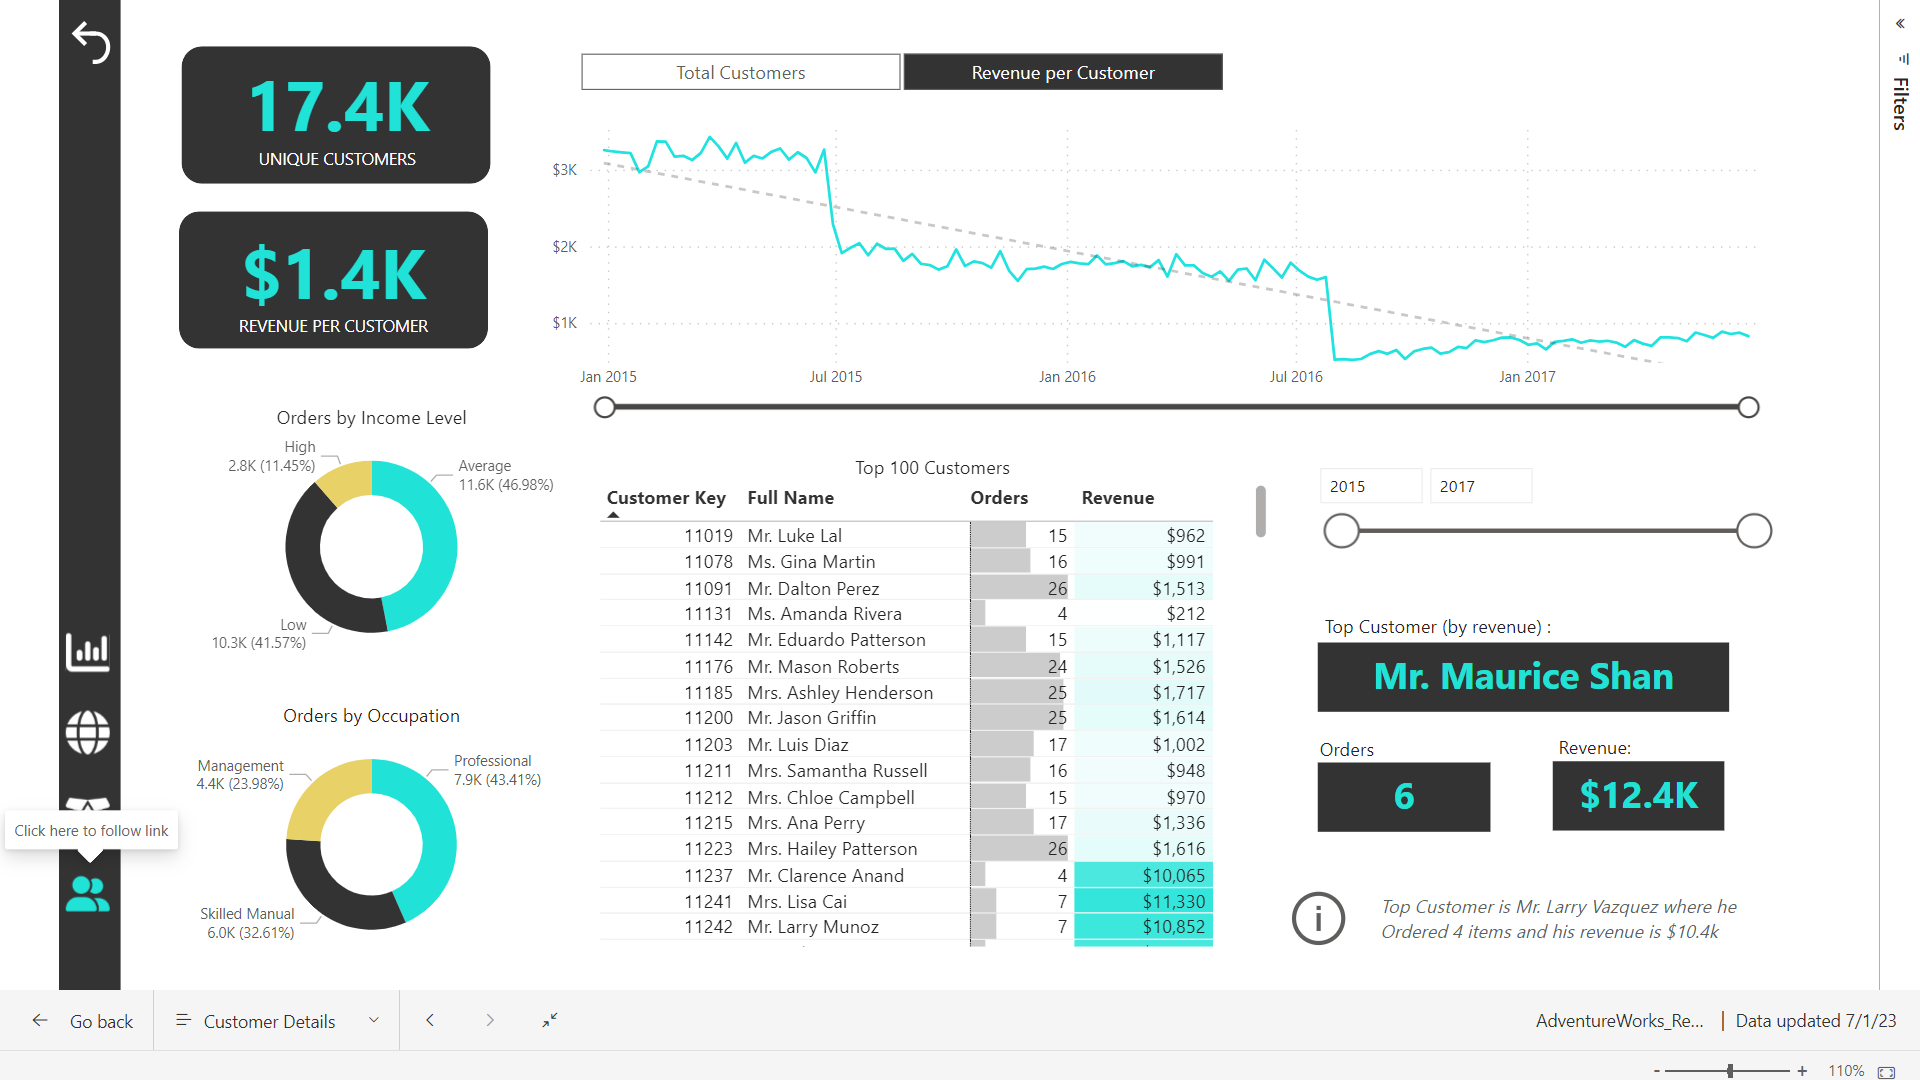

Layout of this report page (visuals, bound fields, positions):
{"tool":"powerbi","page":{"name":"Customer Details","canvas":[1280,720],"ordinal":3},"visuals":[{"type":"shape","box":[0,0,44.6,720],"z":0},{"type":"actionButton","box":[1.1,454.3,44.3,40],"z":0,"group":"g1"},{"type":"shape","box":[88.9,34,225,100],"z":1000},{"type":"actionButton","box":[1.1,512.9,44.3,40],"z":1000,"group":"g1"},{"type":"shape","box":[87.5,153.6,225,100],"z":2000},{"type":"actionButton","box":[1.1,630,44.3,40],"z":2000,"group":"g1"},{"type":"card","fields":{"Values":["AW_Customer_Lookup.Total Customers"]},"box":[95.1,21.4,213.9,122.2],"z":3000},{"type":"actionButton","box":[1.1,571.4,44.3,40],"z":3000,"group":"g1"},{"type":"card","fields":{"Values":["AW_Sales.Avg Revenue per Customer"]},"box":[92.5,142.6,213.9,122.2],"z":4000},{"type":"lineChart","title":"Trending Customers","fields":{"Y":["AW_Sales.Avg Revenue per Customer"],"Category":["AW_Calender_Lookup.Year","AW_Calender_Lookup.Start of Month","AW_Calender_Lookup.Start of Week","AW_Calender_Lookup.Date"]},"box":[353.3,81.9,900.9,224.9],"z":5000},{"type":"donutChart","title":"Orders by Income Level","fields":{"Category":["AW_Customer_Lookup.IncomeLevel"],"Y":["AW_Sales.Total Orders"]},"box":[67.6,293.2,320.3,190.5],"z":6000},{"type":"donutChart","title":"Orders by Occupation","fields":{"Y":["AW_Sales.Total Orders"],"Category":["AW_Customer_Lookup.Occupation"]},"box":[67.6,510.8,320.3,189.2],"z":7000},{"type":"tableEx","title":"Top 100 Customers","fields":{"Values":["AW_Customer_Lookup.CustomerKey","AW_Customer_Lookup.FullName","AW_Sales.Total Orders","AW_Sales.Total Revenue"]},"box":[387.5,330.1,496.3,363.1],"z":8000},{"type":"card","fields":{"Values":["Min(AW_Customer_Lookup.FullName)"]},"box":[915.6,467,299.5,50.1],"z":9000},{"type":"card","fields":{"Values":["AW_Sales.Total Revenue"]},"box":[1086.7,553.8,124.7,50.1],"z":10000},{"type":"card","fields":{"Values":["AW_Sales.Total Orders"]},"box":[915.6,555,125.9,50.1],"z":11000},{"type":"textbox","box":[915.6,441.3,189.5,28.1],"z":12000},{"type":"textbox","box":[911.9,530.5,75.8,28.1],"z":13000},{"type":"textbox","box":[1085.5,529.3,116.1,29.3],"z":14000},{"type":"slicer","fields":{"Values":["AW_Calender_Lookup.Year"]},"box":[904.6,330.1,349.6,95.3],"z":15000},{"type":"actionButton","box":[2.9,10,45.7,41.4],"z":16000},{"type":"actionButton","box":[891.1,643,349.6,50.1],"z":17000},{"type":"group","id":"g1","title":"Nevigation Buttons","box":[1.1,454.3,44.3,215.7],"z":18000},{"type":"slicer","fields":{"Values":["Customer Metric Selection.Customer Metric Selection"]},"box":[353.3,31.8,517.1,37.9],"z":19000}]}

Visuals, with their boxes on the page's 1280x720 design canvas (x1, y1, x2, y2). These are canvas units, not pixel positions in the 1920x1080 screenshot, which may show the page scaled, cropped or inside an application window:
shape: x1=0, y1=0, x2=45, y2=720
actionButton: x1=1, y1=454, x2=45, y2=494
shape: x1=89, y1=34, x2=314, y2=134
actionButton: x1=1, y1=513, x2=45, y2=553
shape: x1=88, y1=154, x2=312, y2=254
actionButton: x1=1, y1=630, x2=45, y2=670
card - AW_Customer_Lookup.Total Customers: x1=95, y1=21, x2=309, y2=144
actionButton: x1=1, y1=571, x2=45, y2=611
card - AW_Sales.Avg Revenue per Customer: x1=92, y1=143, x2=306, y2=265
"Trending Customers" lineChart: x1=353, y1=82, x2=1254, y2=307
"Orders by Income Level" donutChart: x1=68, y1=293, x2=388, y2=484
"Orders by Occupation" donutChart: x1=68, y1=511, x2=388, y2=700
"Top 100 Customers" tableEx: x1=388, y1=330, x2=884, y2=693
card - Min(AW_Customer_Lookup.FullName): x1=916, y1=467, x2=1215, y2=517
card - AW_Sales.Total Revenue: x1=1087, y1=554, x2=1211, y2=604
card - AW_Sales.Total Orders: x1=916, y1=555, x2=1042, y2=605
textbox: x1=916, y1=441, x2=1105, y2=469
textbox: x1=912, y1=530, x2=988, y2=559
textbox: x1=1086, y1=529, x2=1202, y2=559
slicer - AW_Calender_Lookup.Year: x1=905, y1=330, x2=1254, y2=425
actionButton: x1=3, y1=10, x2=49, y2=51
actionButton: x1=891, y1=643, x2=1241, y2=693
"Nevigation Buttons" group: x1=1, y1=454, x2=45, y2=670
slicer - Customer Metric Selection.Customer Metric Selection: x1=353, y1=32, x2=870, y2=70
